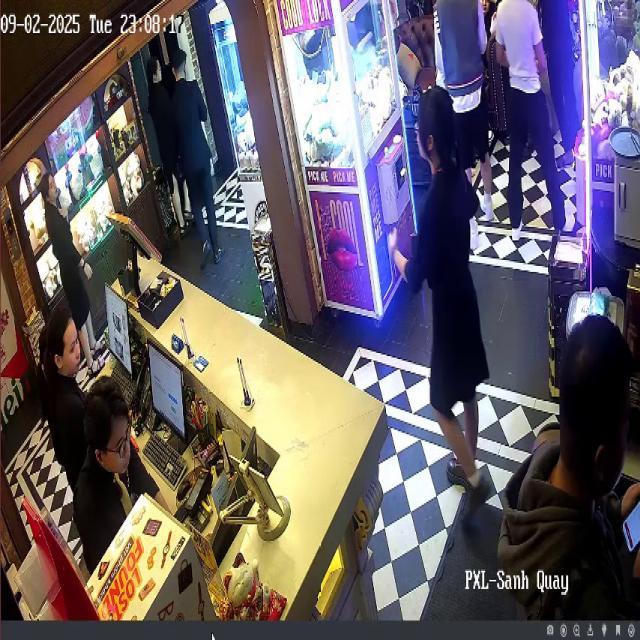khach: (498, 311, 640, 622), (492, 0, 576, 242), (432, 0, 508, 247), (540, 0, 582, 178)
nhan vien: (388, 89, 490, 526), (33, 167, 118, 383), (73, 367, 136, 578), (36, 293, 90, 536), (167, 46, 224, 272), (142, 50, 190, 248)
